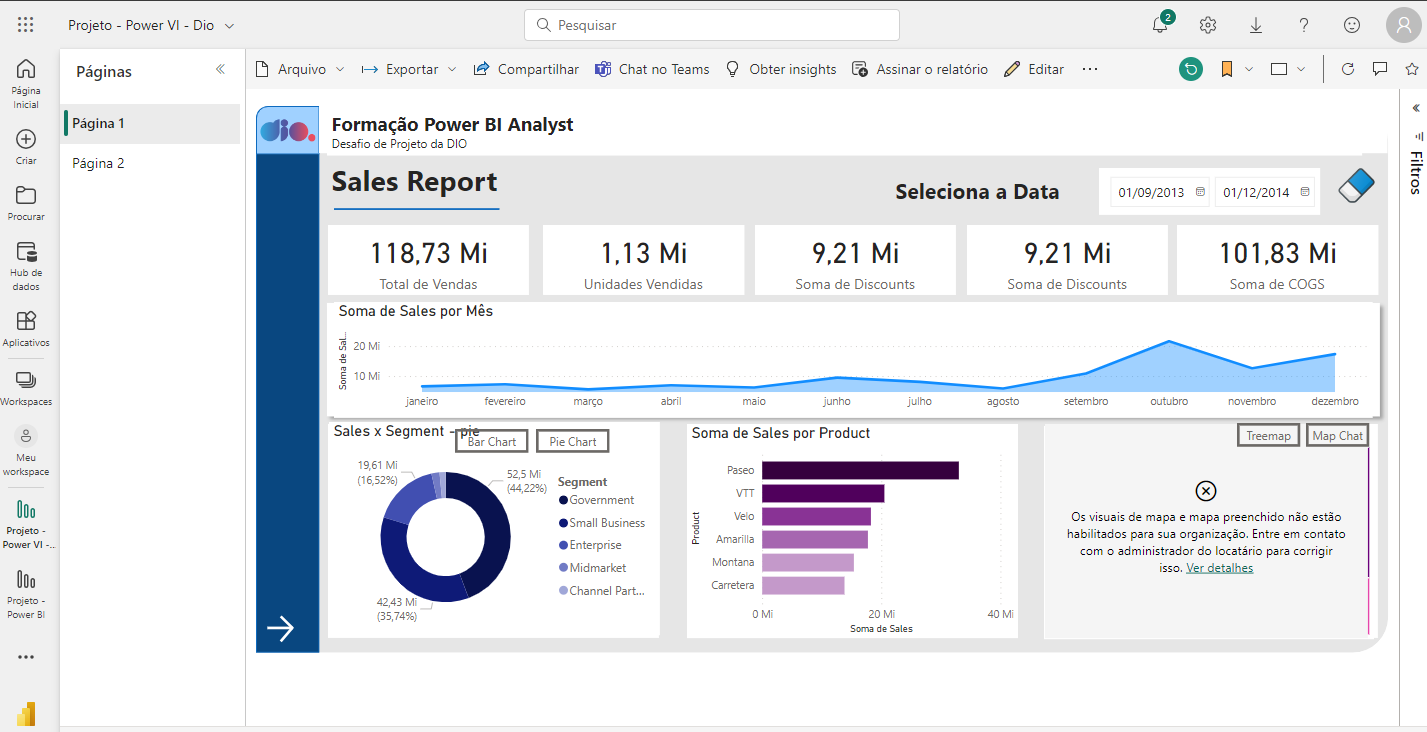

This screenshot's page, from the dashboard's own definition file:
{"tool":"powerbi","page":{"name":"Página 1","canvas":[1280,720],"ordinal":0},"visuals":[{"type":"shape","box":[0,18.8,1279.7,617.9],"z":0},{"type":"slicer","fields":{"Values":["financials.Date"]},"box":[951.9,88.7,249.8,52.8],"z":0,"group":"g4"},{"type":"shape","box":[803.2,154.2,226.6,78.8],"z":0,"group":"g1"},{"type":"donutChart","title":"Sales x Segment - pie","fields":{"Category":["financials.Segment"],"Y":["Sum(financials. Sales)"]},"box":[82.1,376.6,373.7,241.2],"z":0,"group":"g2"},{"type":"treemap","fields":{"Values":["Sum(financials. Sales)"],"Group":["financials.Country"]},"box":[890.5,380.9,373.3,241.2],"z":0,"group":"g3"},{"type":"shape","box":[0,18.8,71.6,617.9],"z":1000},{"type":"textbox","box":[717.3,93.2,209.6,43.9],"z":1000,"group":"g4"},{"type":"shape","box":[1042.3,154.2,226.6,78.8],"z":1000,"group":"g1"},{"type":"map","title":"Sales x Country","fields":{"Category":["financials.Country"],"Size":["Sum(financials. Sales)"]},"box":[891.4,378.5,364.6,241.7],"z":1000,"group":"g3"},{"type":"shape","box":[0,18.8,71.6,54.6],"z":2000},{"type":"shape","box":[564.1,154.2,226.6,78.8],"z":2000,"group":"g1"},{"type":"actionButton","title":"Botão - Treemap","box":[1108.6,377.6,71.5,26.9],"z":2000,"group":"g3"},{"type":"actionButton","title":"Botão - Bar Chart","box":[224.8,385,83.3,26.9],"z":2000,"group":"g2"},{"type":"image","title":"Logo Dio","box":[0,18.8,71.6,54.6],"z":3000},{"type":"shape","box":[325,154.2,226.6,78.8],"z":3000,"group":"g1"},{"type":"actionButton","title":"Botão - Map","box":[1186.3,377.6,71.5,26.9],"z":3000,"group":"g3"},{"type":"actionButton","title":"Botão - Pie Chart","box":[317,385,83.3,26.9],"z":3000,"group":"g2"},{"type":"shape","box":[71.6,19.7,1208,53.7],"z":4000},{"type":"shape","box":[81.4,154.2,226.6,78.8],"z":4000,"group":"g1"},{"type":"textbox","box":[79.7,19.7,1169.5,55.5],"z":5000},{"type":"shape","box":[88.2,120.9,187.2,29.6],"z":5000,"group":"g1"},{"type":"group","id":"g1","title":"Cartões","box":[81.4,120.9,1187.5,112.1],"z":6000},{"type":"textbox","box":[79.7,75.2,300,66.3],"z":7000},{"type":"shape","box":[71.6,232.8,1208,146],"z":8000},{"type":"shape","box":[81.5,378.8,374.3,241.8],"z":9000},{"type":"shape","box":[487.2,378.8,374.3,241.8],"z":10000},{"type":"shape","box":[894.6,378.8,374.3,241.8],"z":11000},{"type":"image","title":"Clean","box":[1217.9,82.4,51,51.9],"z":12000,"group":"g5"},{"type":"areaChart","fields":{"Category":["financials.Date.Variation.Hierarquia de datas.Mês"],"Y":["Sum(financials. Sales)"]},"box":[87.8,240.9,1174,130.7],"z":13000},{"type":"card","fields":{"Values":["Sum(financials. Sales)"]},"box":[81.5,154,226.6,78.8],"z":14000},{"type":"card","fields":{"Values":["Sum(financials.Units Sold)"]},"box":[324.2,154,226.6,78.8],"z":15000},{"type":"card","fields":{"Values":["Sum(financials.Discounts)"]},"box":[564.2,154,226.6,78.8],"z":16000},{"type":"card","fields":{"Values":["Sum(financials.Discounts)"]},"box":[803.3,154,226.6,78.8],"z":17000},{"type":"card","fields":{"Values":["Sum(financials.COGS)"]},"box":[1041.5,154,226.6,78.8],"z":18000},{"type":"clusteredBarChart","fields":{"Category":["financials.Product"],"Y":["Sum(financials. Sales)"]},"box":[487.2,378.8,374.3,241.8],"z":19000},{"type":"actionButton","title":"Botão - Pular Página","box":[7.2,590.1,56.4,40.3],"z":20000},{"type":"group","id":"g2","title":"Sales x Segment","box":[81.5,376.6,374.3,243.9],"z":21000},{"type":"group","id":"g3","title":"Sales x Country","box":[890.5,377.6,373.3,244.5],"z":22000},{"type":"group","id":"g4","title":"Grupo 1","box":[717.3,88.7,484.5,52.8],"z":23000,"group":"g5"},{"type":"group","id":"g5","title":"Filtro por data","box":[717.3,82.4,551.6,59.1],"z":23001}]}

Visuals, with their boxes on the page's 1280x720 design canvas (x1, y1, x2, y2). These are canvas units, not pixel positions in the 1427x732 screenshot, which may show the page scaled, cropped or inside an application window:
shape: x1=0 y1=19 x2=1280 y2=637
slicer - financials.Date: x1=952 y1=89 x2=1202 y2=142
shape: x1=803 y1=154 x2=1030 y2=233
"Sales x Segment - pie" donutChart: x1=82 y1=377 x2=456 y2=618
treemap - Sum(financials. Sales) x financials.Country: x1=890 y1=381 x2=1264 y2=622
shape: x1=0 y1=19 x2=72 y2=637
textbox: x1=717 y1=93 x2=927 y2=137
shape: x1=1042 y1=154 x2=1269 y2=233
"Sales x Country" map: x1=891 y1=378 x2=1256 y2=620
shape: x1=0 y1=19 x2=72 y2=73
shape: x1=564 y1=154 x2=791 y2=233
"Botão - Treemap" actionButton: x1=1109 y1=378 x2=1180 y2=404
"Botão - Bar Chart" actionButton: x1=225 y1=385 x2=308 y2=412
"Logo Dio" image: x1=0 y1=19 x2=72 y2=73
shape: x1=325 y1=154 x2=552 y2=233
"Botão - Map" actionButton: x1=1186 y1=378 x2=1258 y2=404
"Botão - Pie Chart" actionButton: x1=317 y1=385 x2=400 y2=412
shape: x1=72 y1=20 x2=1280 y2=73
shape: x1=81 y1=154 x2=308 y2=233
textbox: x1=80 y1=20 x2=1249 y2=75
shape: x1=88 y1=121 x2=275 y2=150
"Cartões" group: x1=81 y1=121 x2=1269 y2=233
textbox: x1=80 y1=75 x2=380 y2=142
shape: x1=72 y1=233 x2=1280 y2=379
shape: x1=82 y1=379 x2=456 y2=621
shape: x1=487 y1=379 x2=862 y2=621
shape: x1=895 y1=379 x2=1269 y2=621
"Clean" image: x1=1218 y1=82 x2=1269 y2=134
areaChart - financials.Date.Variation.Hierarquia de datas.Mês x Sum(financials. Sales): x1=88 y1=241 x2=1262 y2=372
card - Sum(financials. Sales): x1=82 y1=154 x2=308 y2=233
card - Sum(financials.Units Sold): x1=324 y1=154 x2=551 y2=233
card - Sum(financials.Discounts): x1=564 y1=154 x2=791 y2=233
card - Sum(financials.Discounts): x1=803 y1=154 x2=1030 y2=233
card - Sum(financials.COGS): x1=1042 y1=154 x2=1268 y2=233
clusteredBarChart - financials.Product x Sum(financials. Sales): x1=487 y1=379 x2=862 y2=621
"Botão - Pular Página" actionButton: x1=7 y1=590 x2=64 y2=630
"Sales x Segment" group: x1=82 y1=377 x2=456 y2=620
"Sales x Country" group: x1=890 y1=378 x2=1264 y2=622
"Grupo 1" group: x1=717 y1=89 x2=1202 y2=142
"Filtro por data" group: x1=717 y1=82 x2=1269 y2=142
